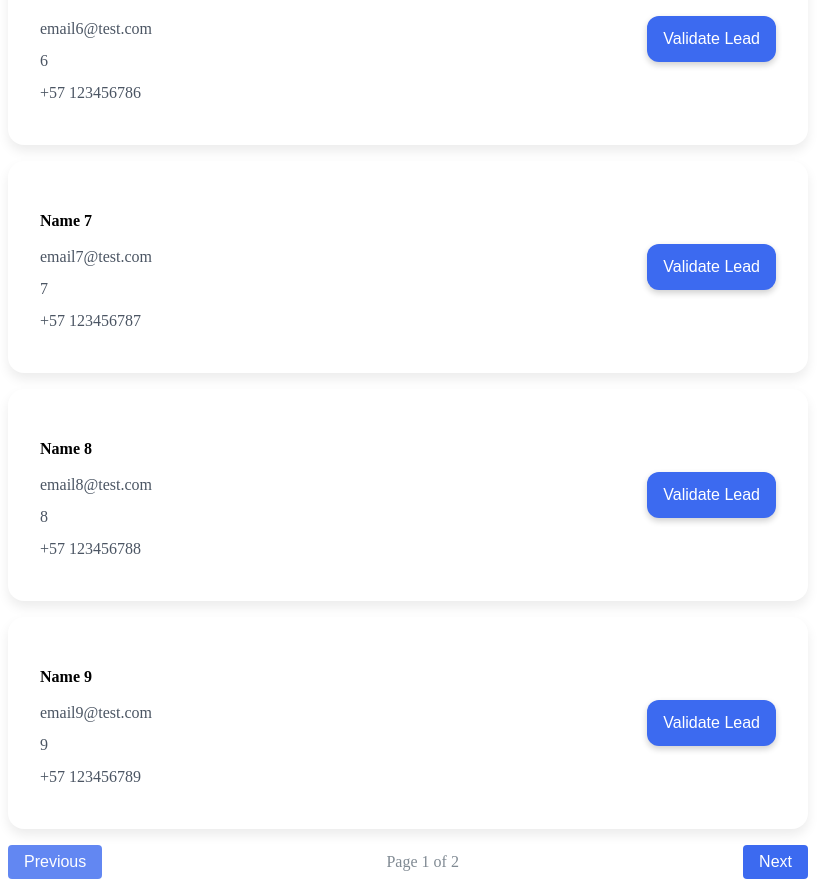
it: List Component › pagination buttons work correctly
The image size is (825, 887).
(page scrolled)
Click the button "Next".
click(776, 862)  # box [743,845,808,879]
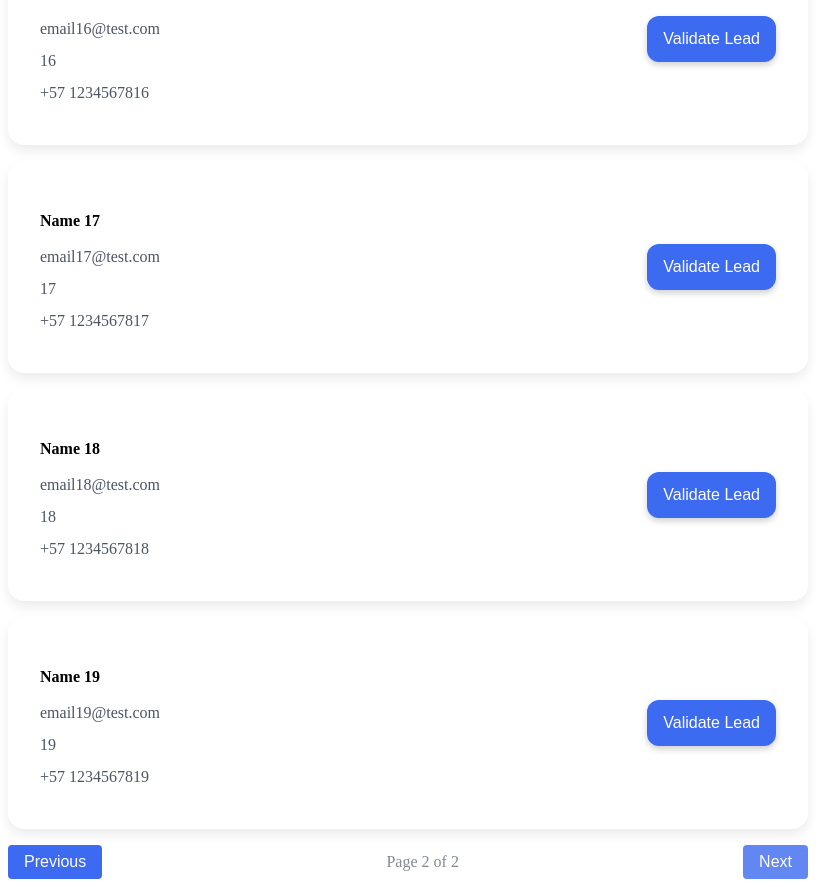
Check: the text "Page 2 of 2" is shown, box [386,853,459,871]
